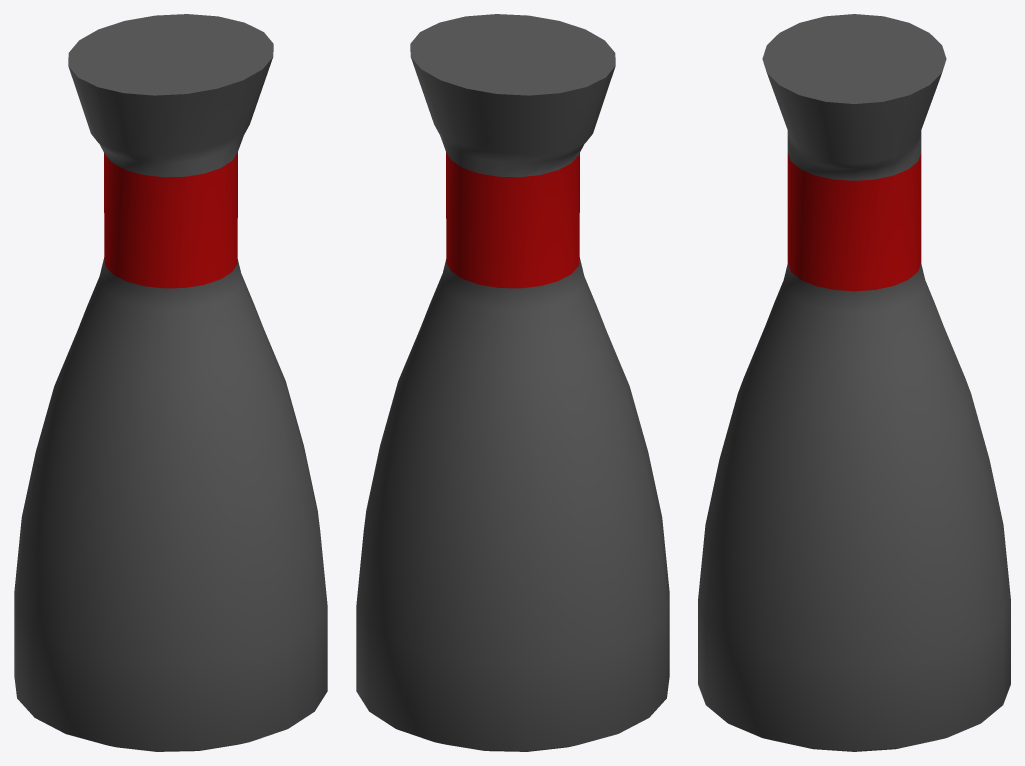
The model's file is Soya_Sauce.fbx.
3 views of the same model, side by side, from view 1: azimuth 30°, elevation 25°; view 2: azimuth 150°, elevation 25°; view 3: azimuth 270°, elevation 25° (orthographic).
Parts seen in each view (by area): view 1: soya_sauce; view 2: soya_sauce; view 3: soya_sauce.
Boxes of the visible parts, left/top/right/bottom form: soya_sauce: left=14, top=14, right=327, bottom=751; soya_sauce: left=356, top=14, right=669, bottom=751; soya_sauce: left=698, top=14, right=1010, bottom=751.
Size of the model in its own units: 0.1784 by 0.4006 by 0.1784.
